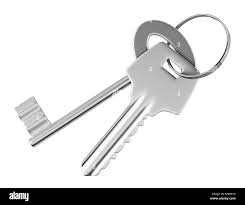key: (13, 17, 197, 147), (81, 42, 200, 178)
